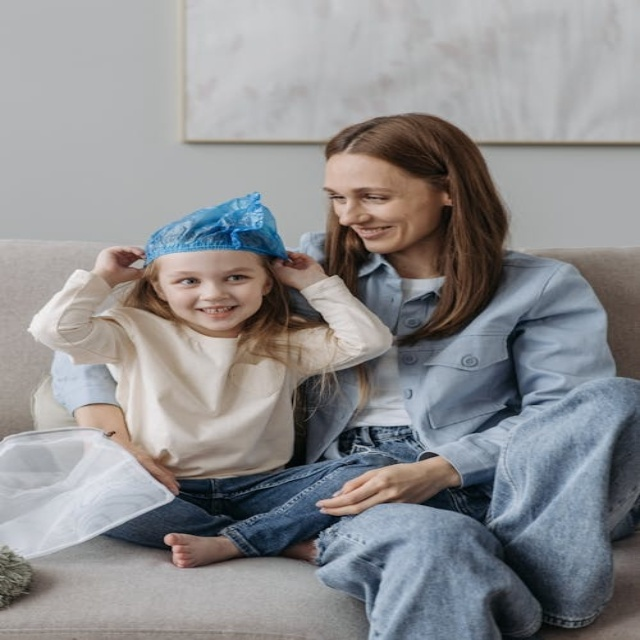Sin_gafas: (316, 178, 413, 209), (159, 265, 260, 291)
Sin_guantes: (317, 456, 451, 515), (87, 239, 147, 285), (268, 245, 330, 289)
Sin_mascara: (188, 302, 243, 329), (352, 223, 402, 252)
